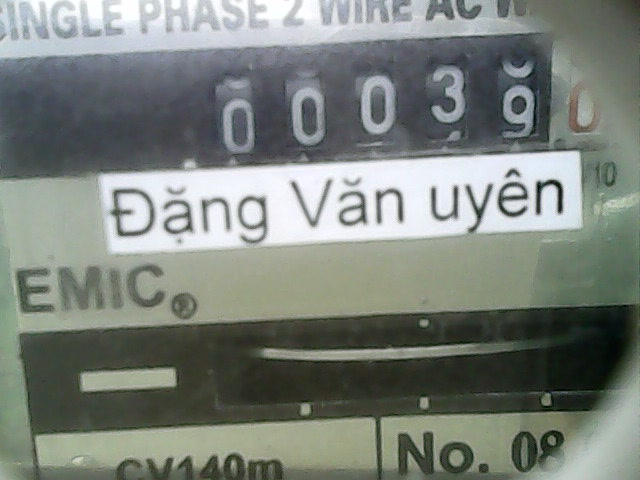phy_plate: (198, 35, 624, 173)
